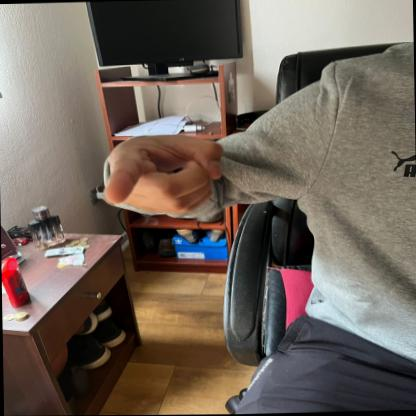X: (95, 128, 226, 221)
